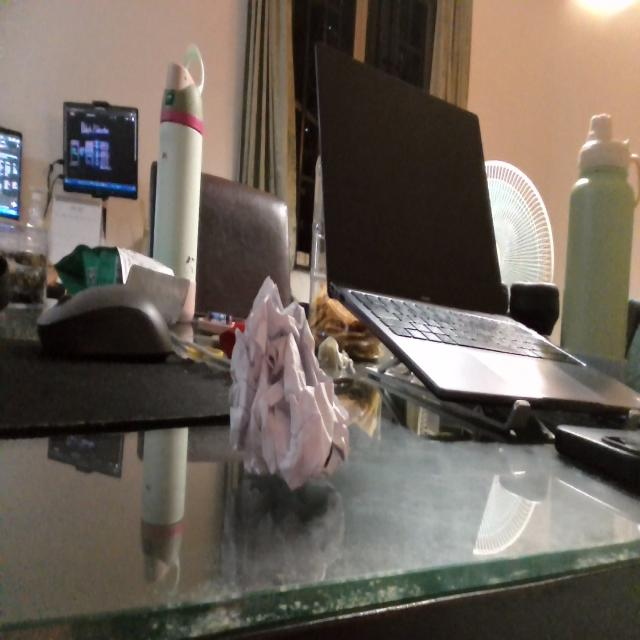crumpled_paper: (227, 272, 351, 496)
